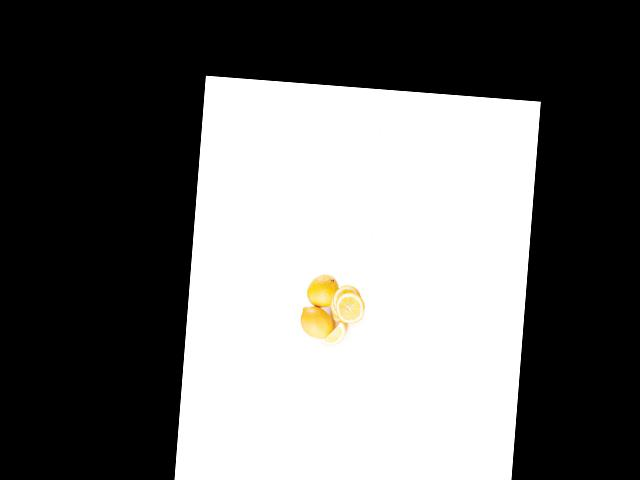lemon: (305, 274, 338, 312)
